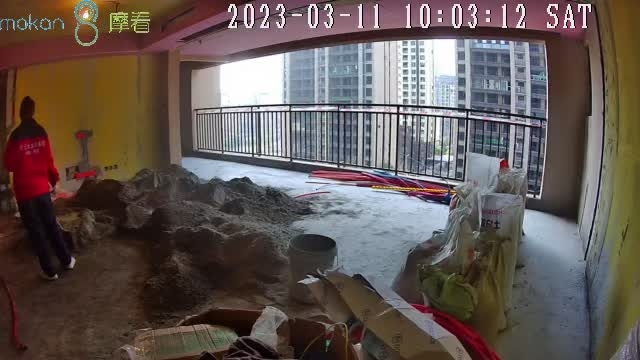people: (8, 95, 75, 280)
window: (191, 103, 548, 196)
